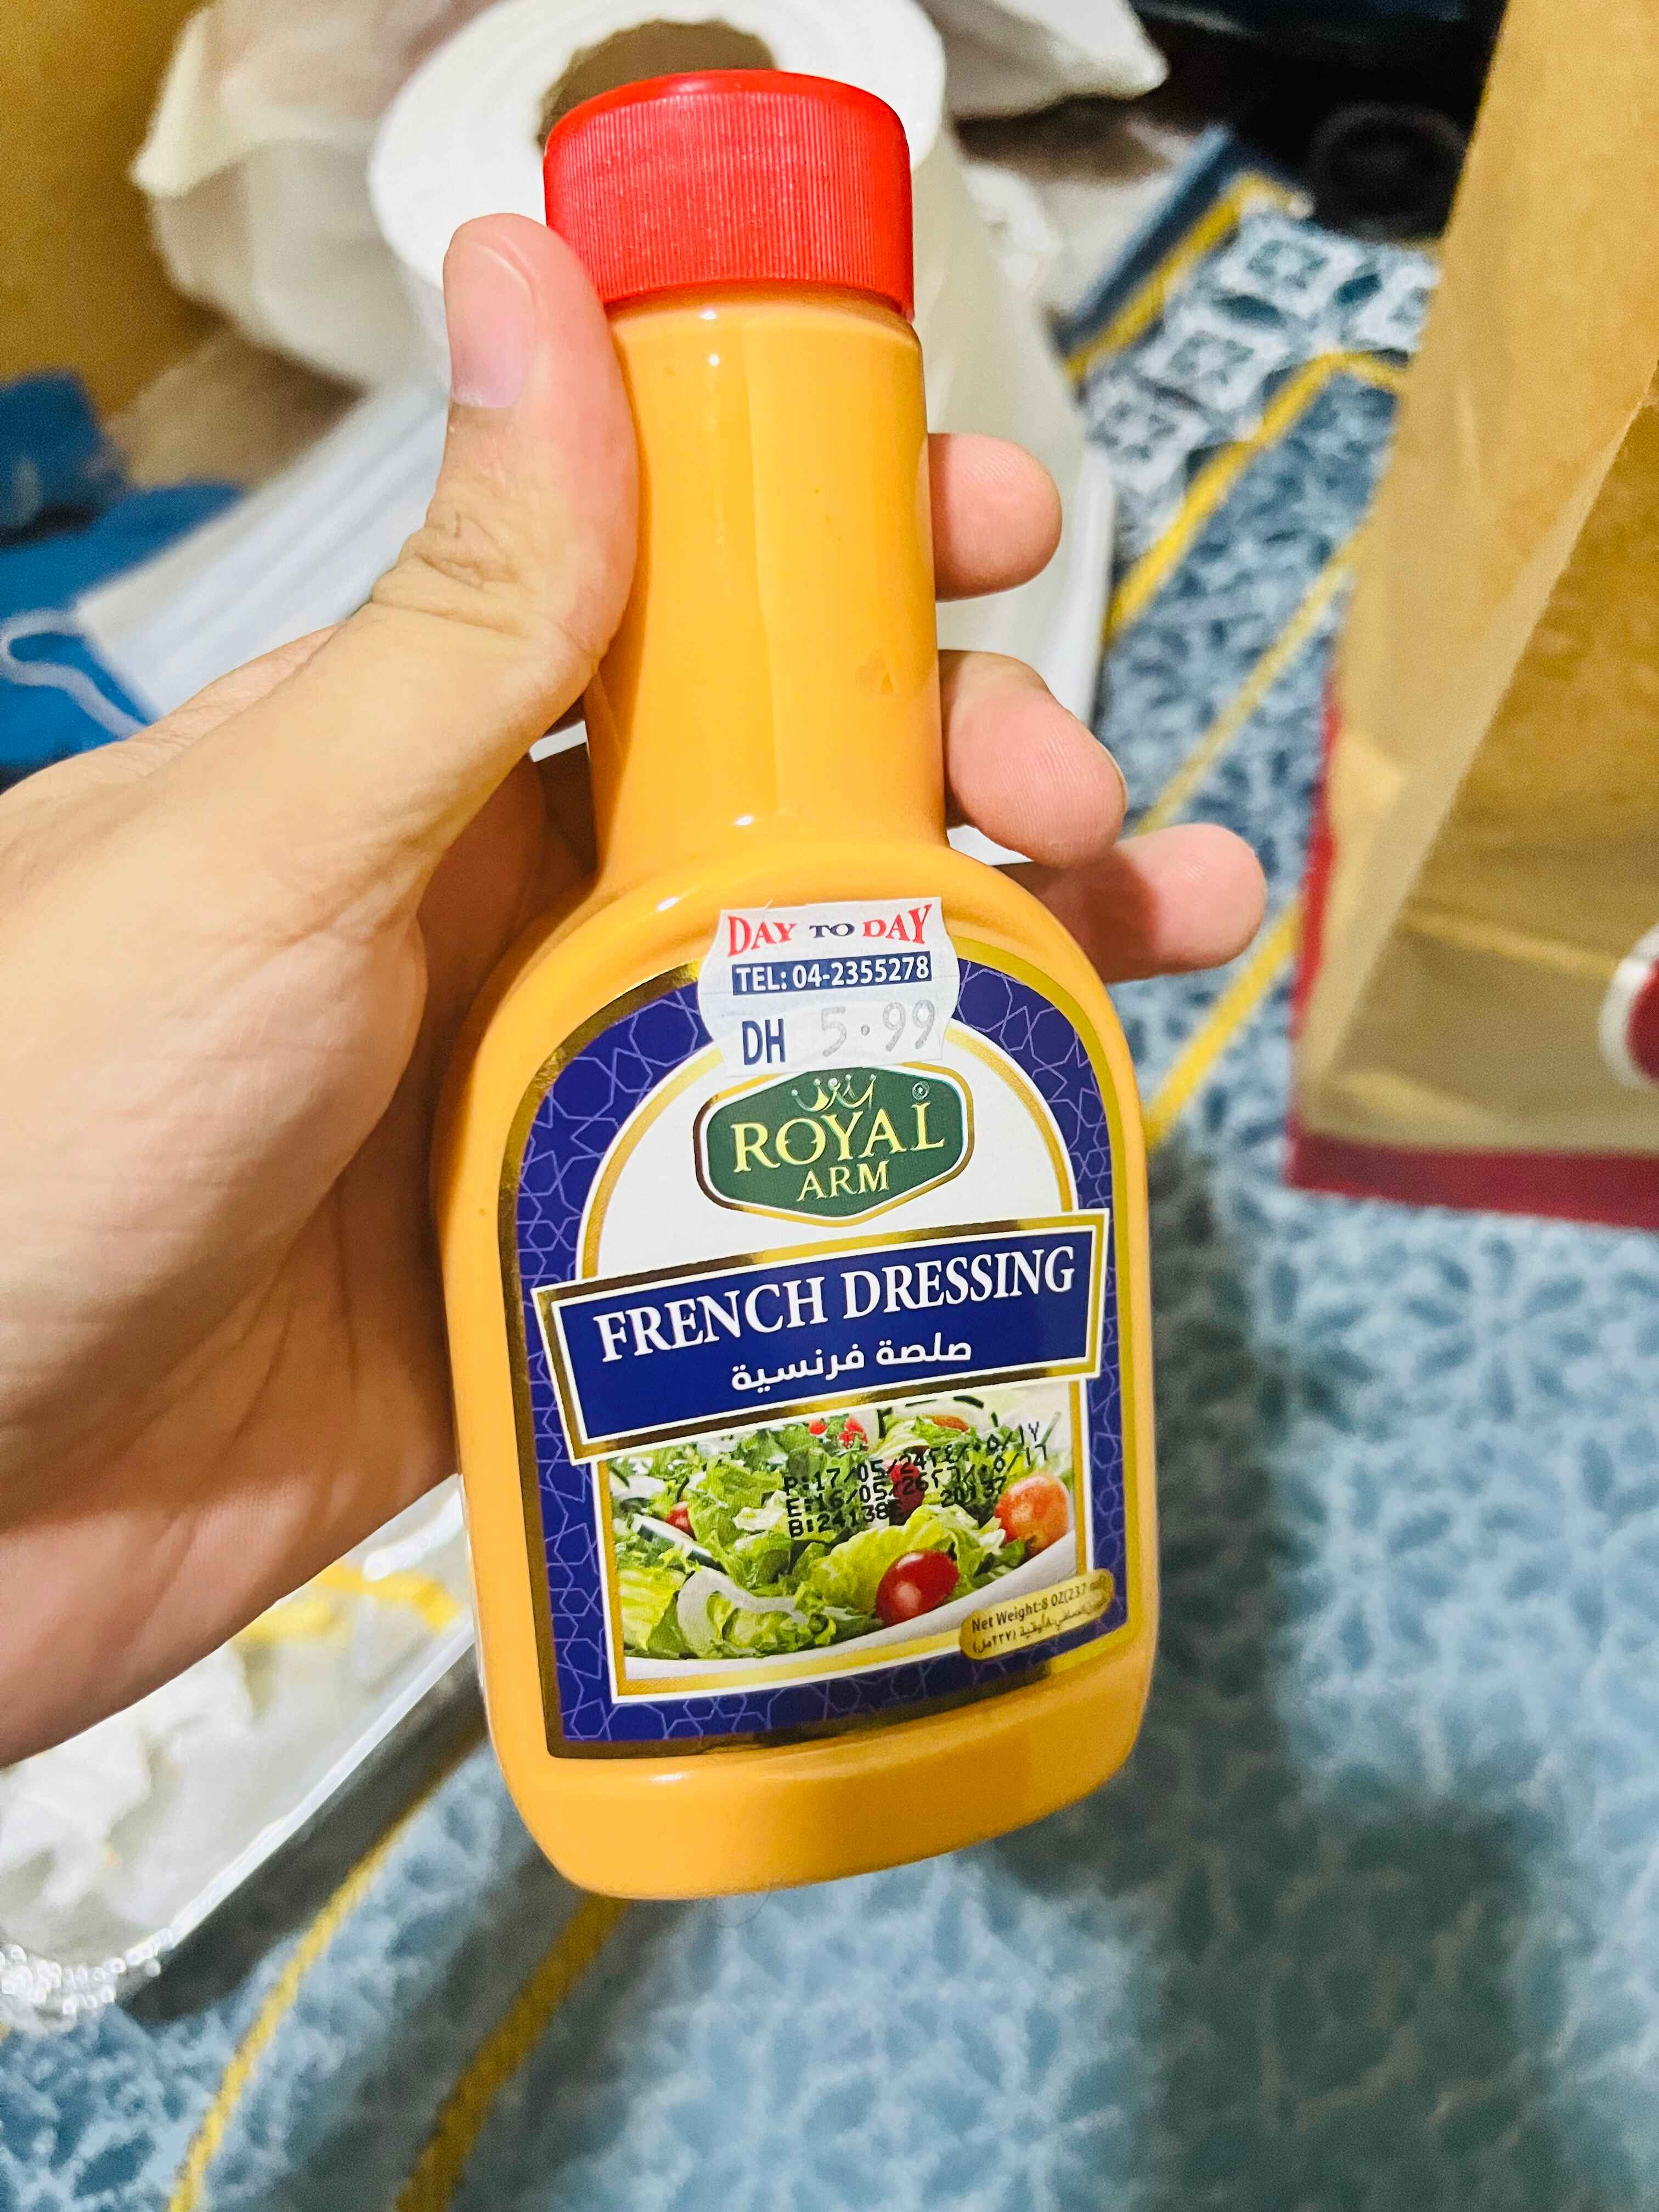PriceTagSmall: (701, 904, 965, 1071)
